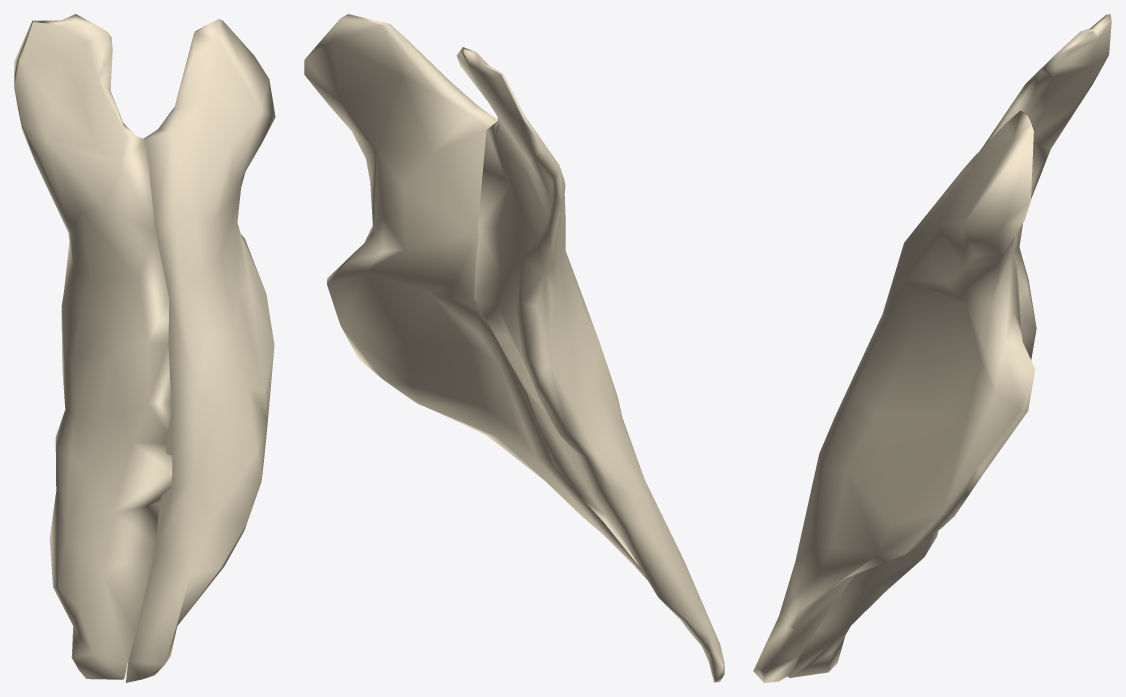
File: 3d-vh-m-thymus_lod_20.glb
The picture shows the model from 3 angles, left to right: view 1: azimuth 30°, elevation 25°; view 2: azimuth 150°, elevation 25°; view 3: azimuth 270°, elevation 25°; orthographic projection. The views are drawn at different scales.
Parts seen in each view (by area): view 1: VH_M_thymus_lobe_L, VH_M_thymus_lobe_R; view 2: VH_M_thymus_lobe_R, VH_M_thymus_lobe_L; view 3: VH_M_thymus_lobe_R, VH_M_thymus_lobe_L.
Part boxes in pixels (bbox=[...]): VH_M_thymus_lobe_L: bbox=[14, 14, 172, 679]; VH_M_thymus_lobe_R: bbox=[125, 19, 275, 682]; VH_M_thymus_lobe_R: bbox=[304, 14, 648, 581]; VH_M_thymus_lobe_L: bbox=[456, 47, 724, 682]; VH_M_thymus_lobe_R: bbox=[753, 110, 1035, 682]; VH_M_thymus_lobe_L: bbox=[787, 14, 1111, 677].
Bounding box in the file's own units: 0.037 × 0.0756 × 0.0352.
